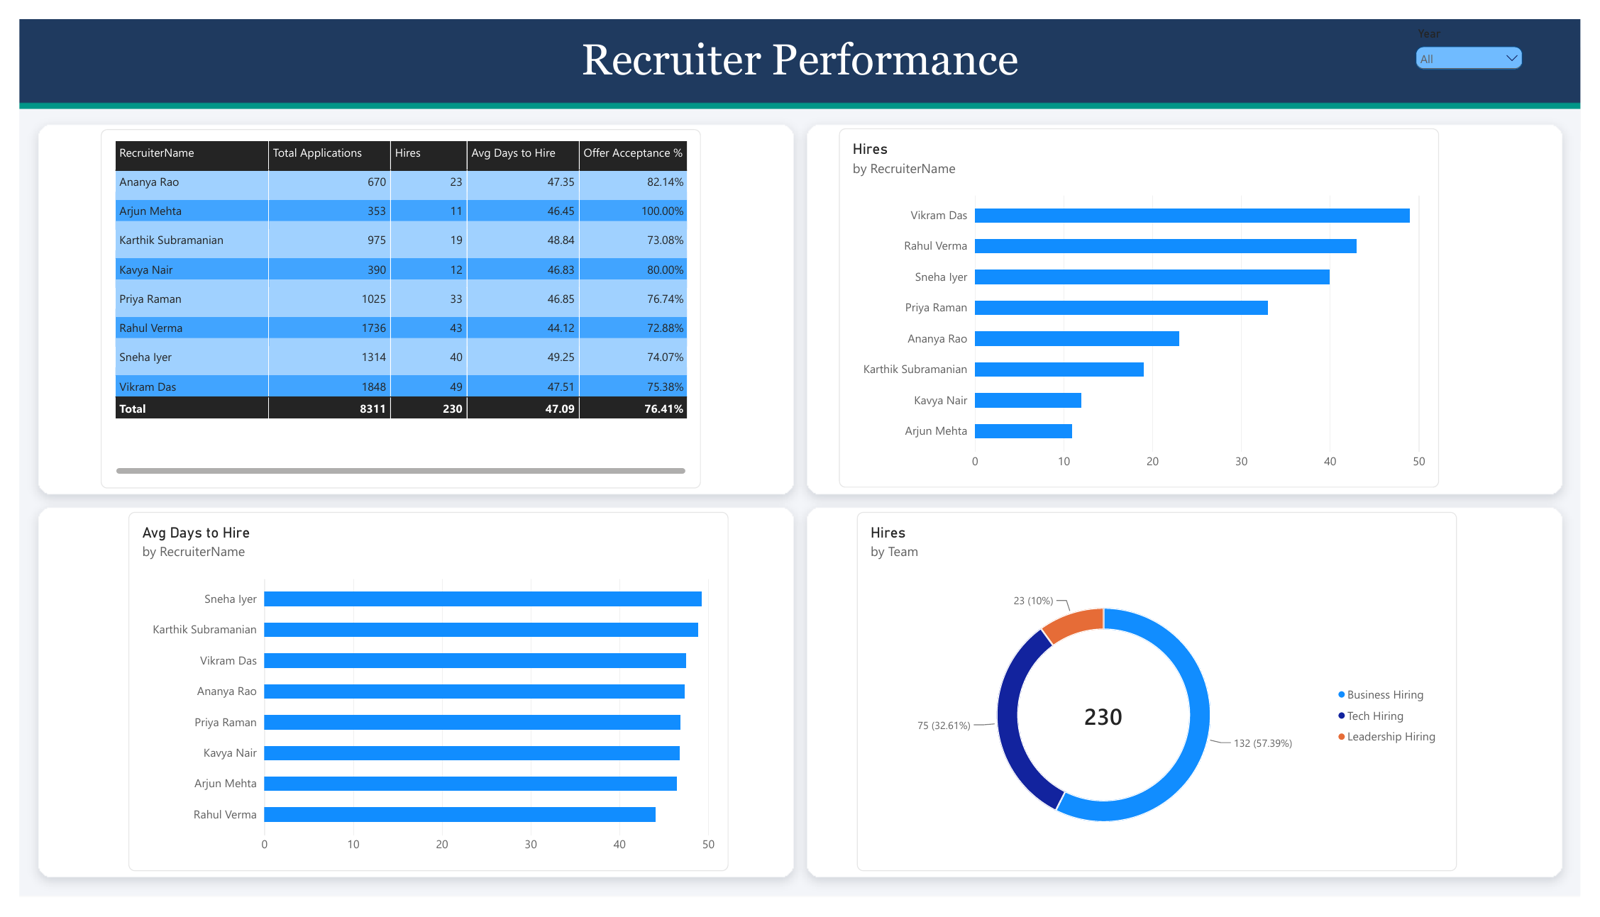

The dashboard page shown, as its layout file describes it:
{"tool":"powerbi","page":{"name":"Recruiters","canvas":[1920,1080],"ordinal":3},"visuals":[{"type":"textbox","box":[0,0,1920,102],"z":0},{"type":"tableEx","fields":{"Values":["Recruiters.RecruiterName","_Measures.Total Applications","_Measures.Hires","_Measures.Avg Days to Hire","_Measures.Offer Acceptance %"]},"box":[100,135,738,442],"z":1000},{"type":"clusteredBarChart","fields":{"Category":["Recruiters.RecruiterName"],"Y":["_Measures.Hires"]},"box":[1008,134,738,442],"z":2000},{"type":"clusteredBarChart","fields":{"Category":["Recruiters.RecruiterName"],"Y":["_Measures.Avg Days to Hire"]},"box":[134,606,738,442],"z":3000},{"type":"donutChart","fields":{"Category":["Recruiters.Team"],"Y":["_Measures.Hires"]},"box":[1030,606,738,442],"z":4000},{"type":"slicer","fields":{"Values":["DimDate.Year"]},"box":[1712,10,142,96],"z":5000}]}

Visuals, with their boxes in screenshot pixels (x1, y1, x2, y2), scaled from the page's 1920x1080 canvas onto the 1600x917 screenshot:
textbox: Rect(0, 0, 1599, 87)
tableEx - Recruiters.RecruiterName x _Measures.Total Applications: Rect(83, 115, 698, 490)
clusteredBarChart - Recruiters.RecruiterName x _Measures.Hires: Rect(840, 114, 1455, 489)
clusteredBarChart - Recruiters.RecruiterName x _Measures.Avg Days to Hire: Rect(112, 515, 727, 890)
donutChart - Recruiters.Team x _Measures.Hires: Rect(858, 515, 1473, 890)
slicer - DimDate.Year: Rect(1427, 8, 1545, 90)
